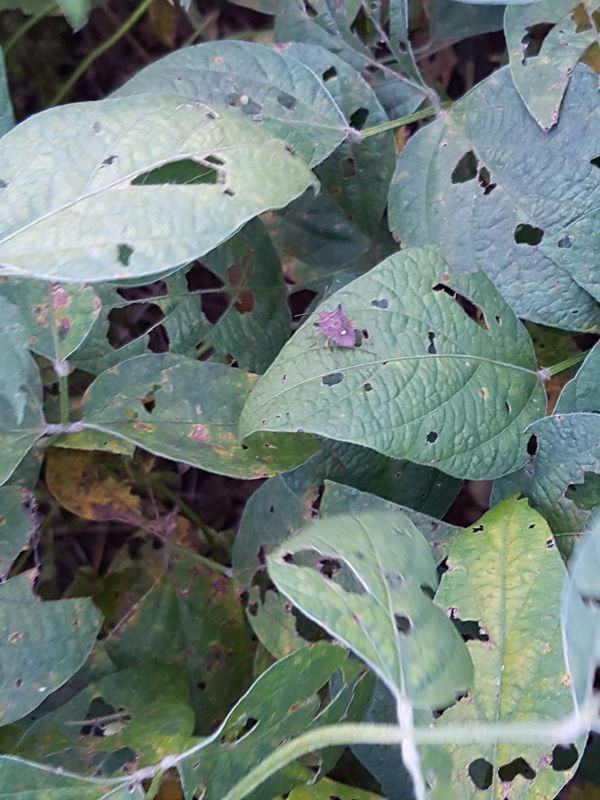Euschistus_heros_adulto: (301, 296, 364, 356)
